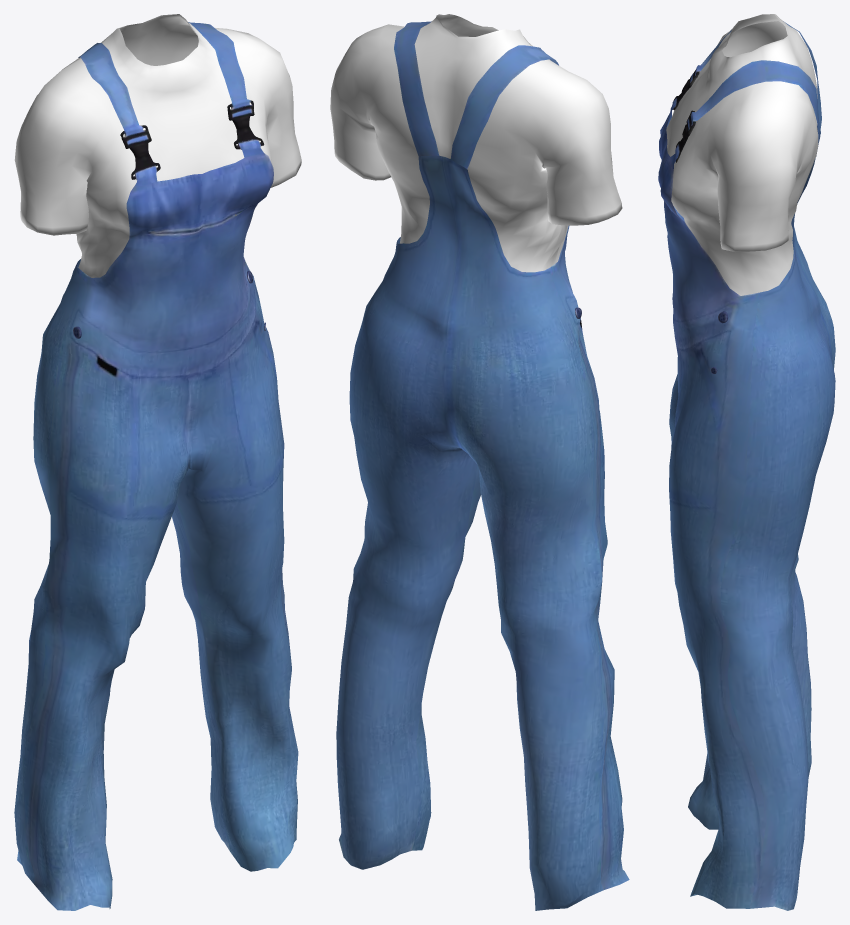
Rendered from male-worksuit01.glb.
The picture shows the model from 3 angles, left to right: view 1: azimuth 30°, elevation 25°; view 2: azimuth 150°, elevation 25°; view 3: azimuth 270°, elevation 25°; orthographic projection. The views are drawn at different scales.
Visible parts, largest first — view 1: Human.male_worksuit01; view 2: Human.male_worksuit01; view 3: Human.male_worksuit01.
Part boxes in pixels (x1,y1,x2,y2): Human.male_worksuit01: (14, 14, 301, 910); Human.male_worksuit01: (330, 14, 629, 910); Human.male_worksuit01: (658, 14, 835, 910).
Bounding box in the file's own units: 0.4632 × 1.39 × 0.2674.
Materials: 1 (1 with a texture image).
